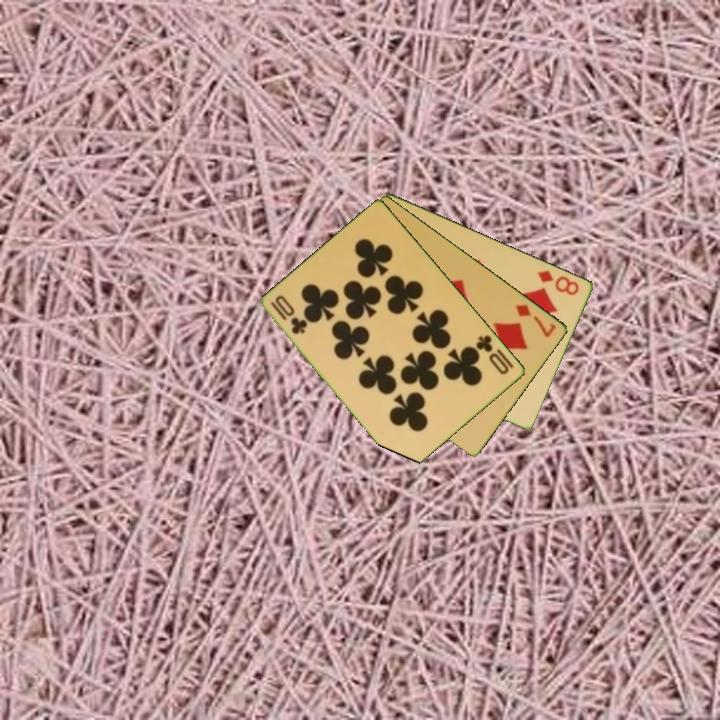10c: (267, 291, 310, 337), (473, 331, 512, 378)
7d: (512, 301, 559, 340)
8d: (534, 266, 582, 298)
